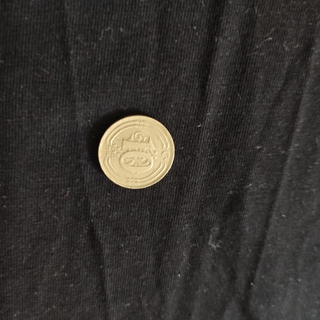10KURUS: (96, 113, 175, 190)
